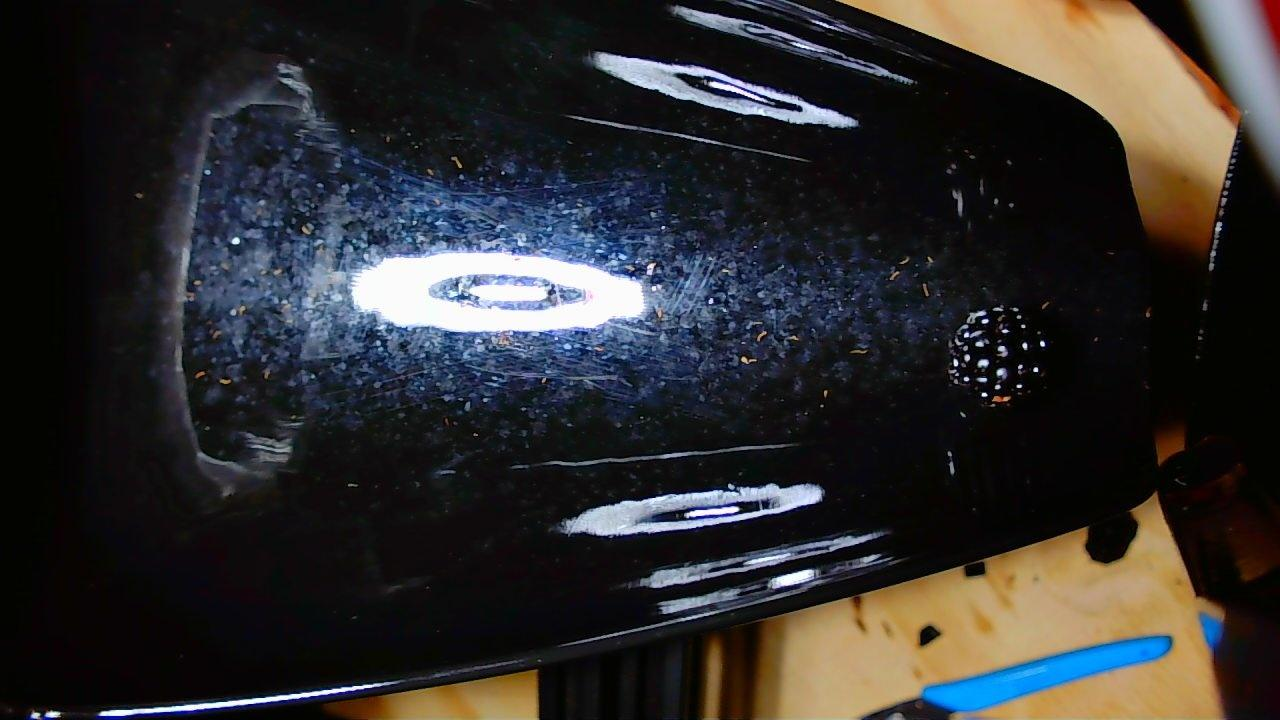berry: (948, 306, 1052, 405)
